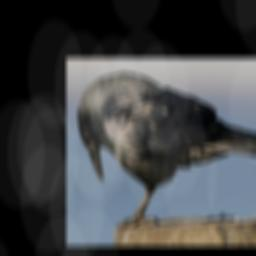Crow: (76, 71, 256, 241)
